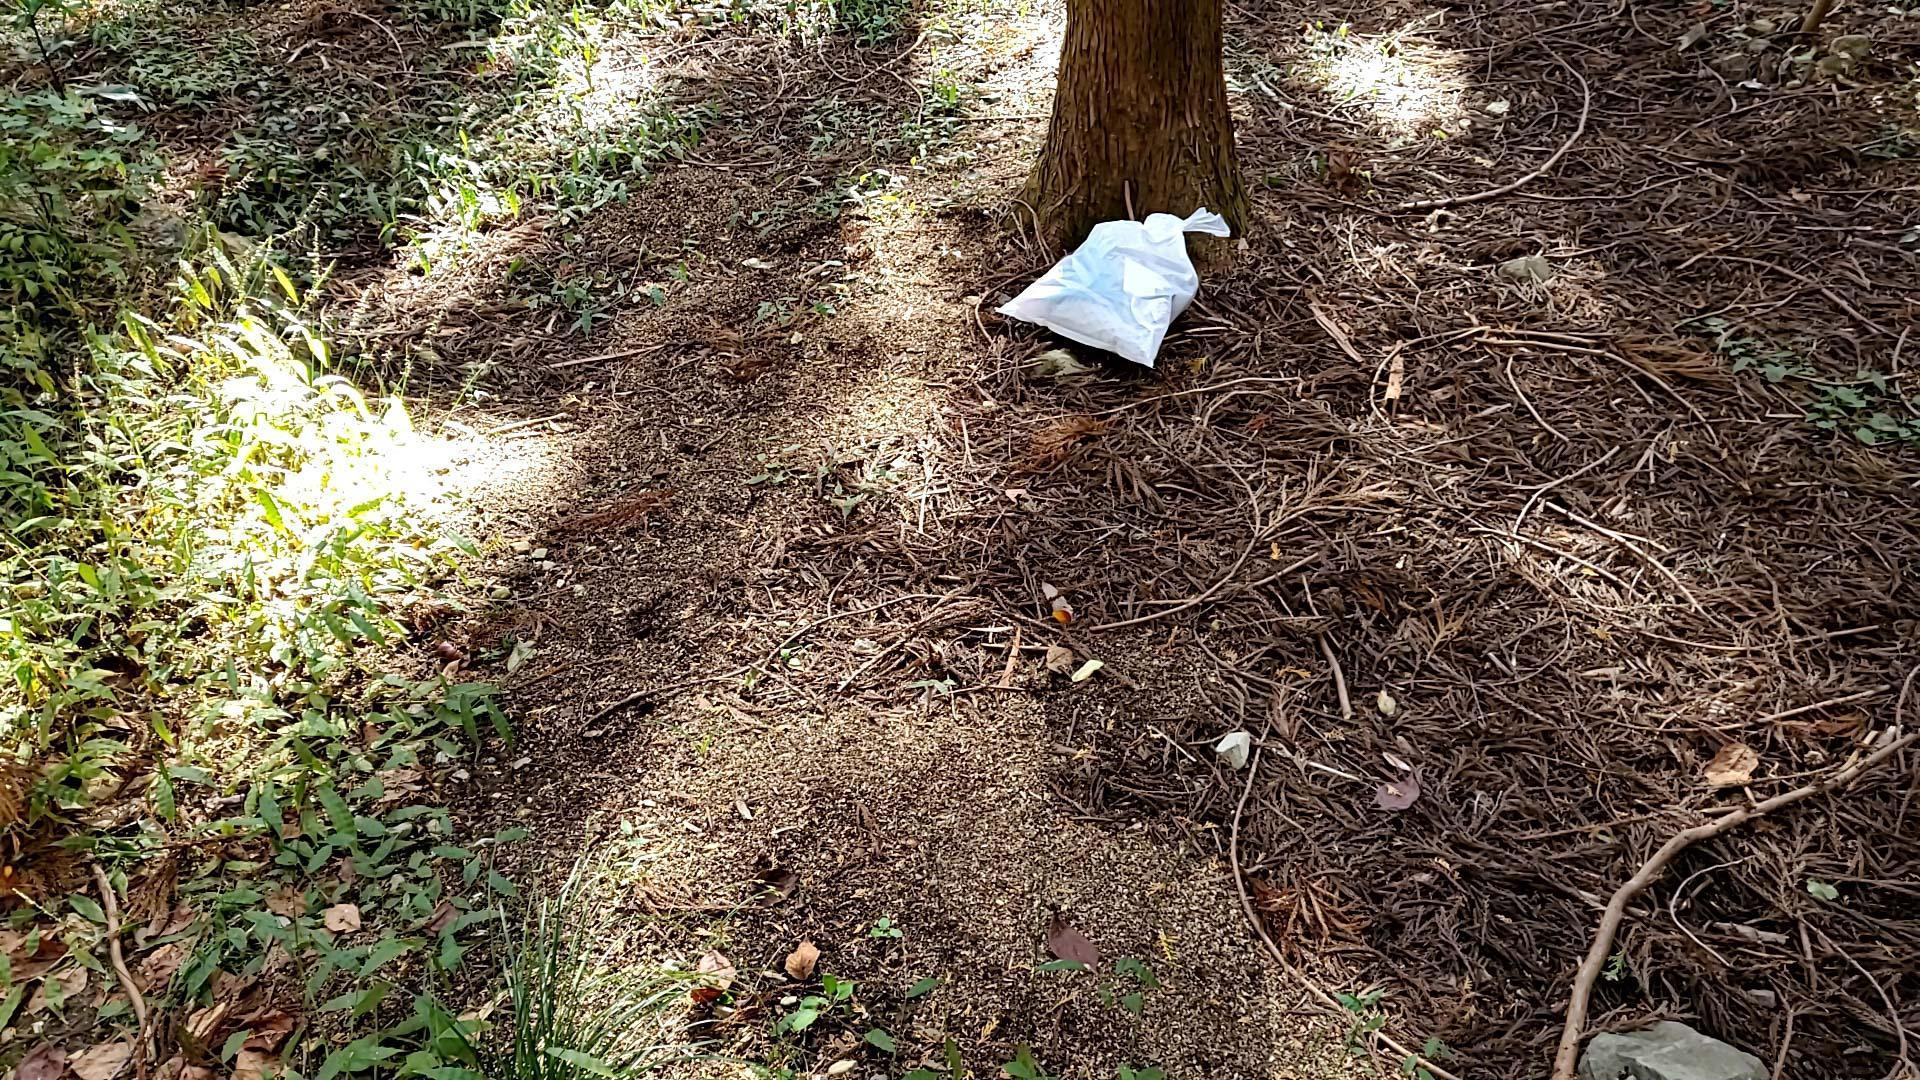white_bag: (977, 193, 1240, 385)
